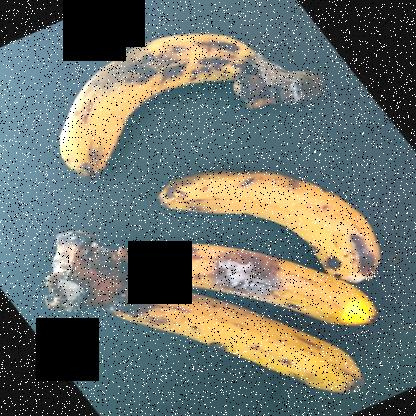ripe: (76, 293, 385, 413), (53, 18, 251, 180), (156, 158, 404, 285)
rotten: (115, 238, 394, 328)
